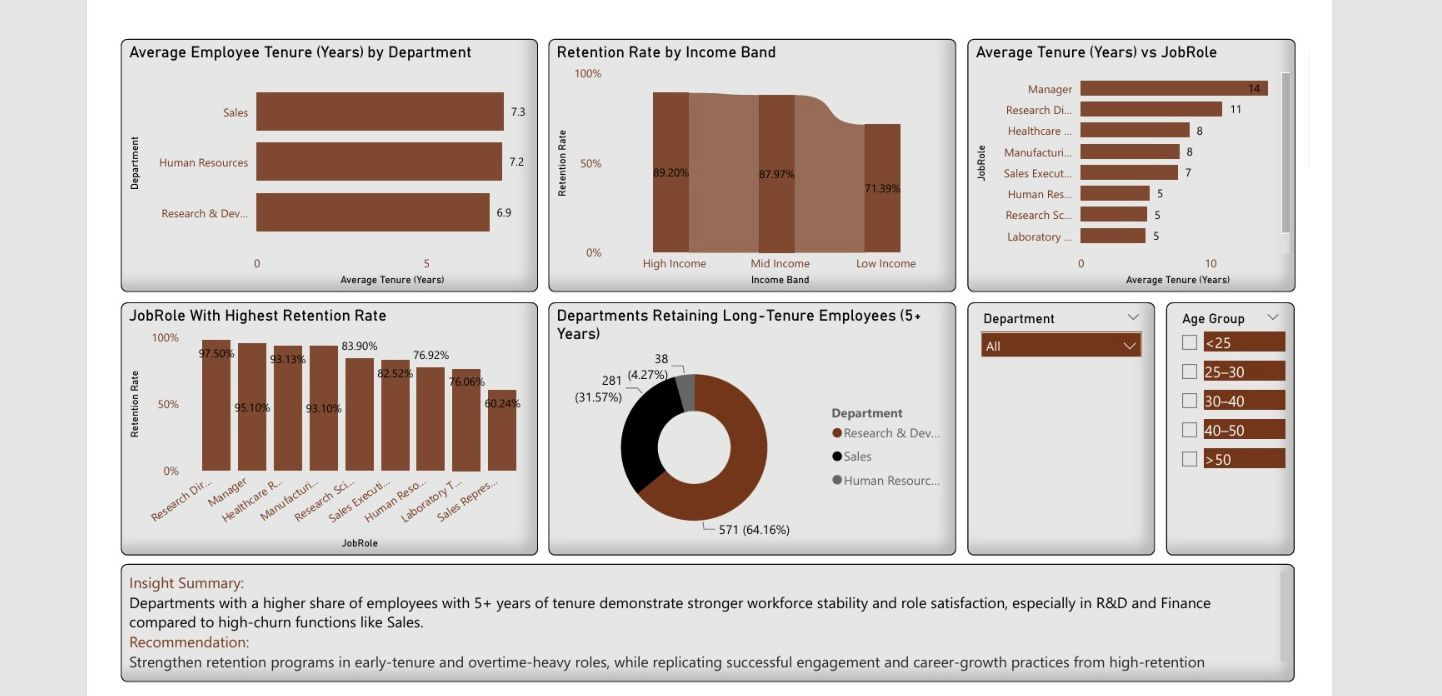

This screenshot's page, from the dashboard's own definition file:
{"tool":"powerbi","page":{"name":"Retention & Workforce Stability","canvas":[1280,720],"ordinal":2},"visuals":[{"type":"barChart","title":"Average Employee Tenure (Years) by Department","fields":{"Y":["HR Employee Attrition&Retention.Average Tenure (Years)"],"Category":["HR Employee Attrition&Retention.Department"]},"box":[12.2,23.2,445,270.2],"z":0},{"type":"columnChart","title":"JobRole With Highest Retention Rate","fields":{"Y":["HR Employee Attrition&Retention.Retention Rate"],"Category":["HR Employee Attrition&Retention.JobRole"]},"box":[12.2,304.5,445,269],"z":1000},{"type":"ribbonChart","fields":{"Y":["HR Employee Attrition&Retention.Retention Rate"],"Category":["HR Employee Attrition&Retention.Income Band"]},"box":[468.3,23.2,435,270.2],"z":2000},{"type":"donutChart","title":"Departments Retaining Long-Tenure Employees (5+ Years)","fields":{"Category":["HR Employee Attrition&Retention.Department"],"Y":["HR Employee Attrition&Retention.Employees 5+ Years"]},"box":[468.3,304.5,435,269],"z":3000},{"type":"barChart","title":"Average Tenure (Years) vs JobRole","fields":{"Y":["HR Employee Attrition&Retention.Average Tenure (Years)"],"Category":["HR Employee Attrition&Retention.JobRole"]},"box":[914.7,23.2,350,270.2],"z":4000},{"type":"slicer","fields":{"Values":["HR Employee Attrition&Retention.Department"]},"box":[914.7,304.5,200.5,269],"z":5000},{"type":"slicer","fields":{"Values":["HR Employee Attrition&Retention.Age Group"]},"box":[1127.5,304.5,137,269],"z":6000},{"type":"textbox","box":[12.2,583.3,1252.2,126],"z":7000},{"type":"actionButton","box":[0,0,35.5,23.2],"z":8000},{"type":"actionButton","box":[1237.5,0,42.8,23.2],"z":8001}]}

Visuals, with their boxes on the page's 1280x720 design canvas (x1, y1, x2, y2). These are canvas units, not pixel positions in the 1442x696 screenshot, which may show the page scaled, cropped or inside an application window:
"Average Employee Tenure (Years) by Department" barChart: 12:23:457:293
"JobRole With Highest Retention Rate" columnChart: 12:304:457:574
ribbonChart - HR Employee Attrition&Retention.Retention Rate x HR Employee Attrition&Retention.Income Band: 468:23:903:293
"Departments Retaining Long-Tenure Employees (5+ Years)" donutChart: 468:304:903:574
"Average Tenure (Years) vs JobRole" barChart: 915:23:1265:293
slicer - HR Employee Attrition&Retention.Department: 915:304:1115:574
slicer - HR Employee Attrition&Retention.Age Group: 1128:304:1264:574
textbox: 12:583:1264:709
actionButton: 0:0:36:23
actionButton: 1238:0:1280:23
